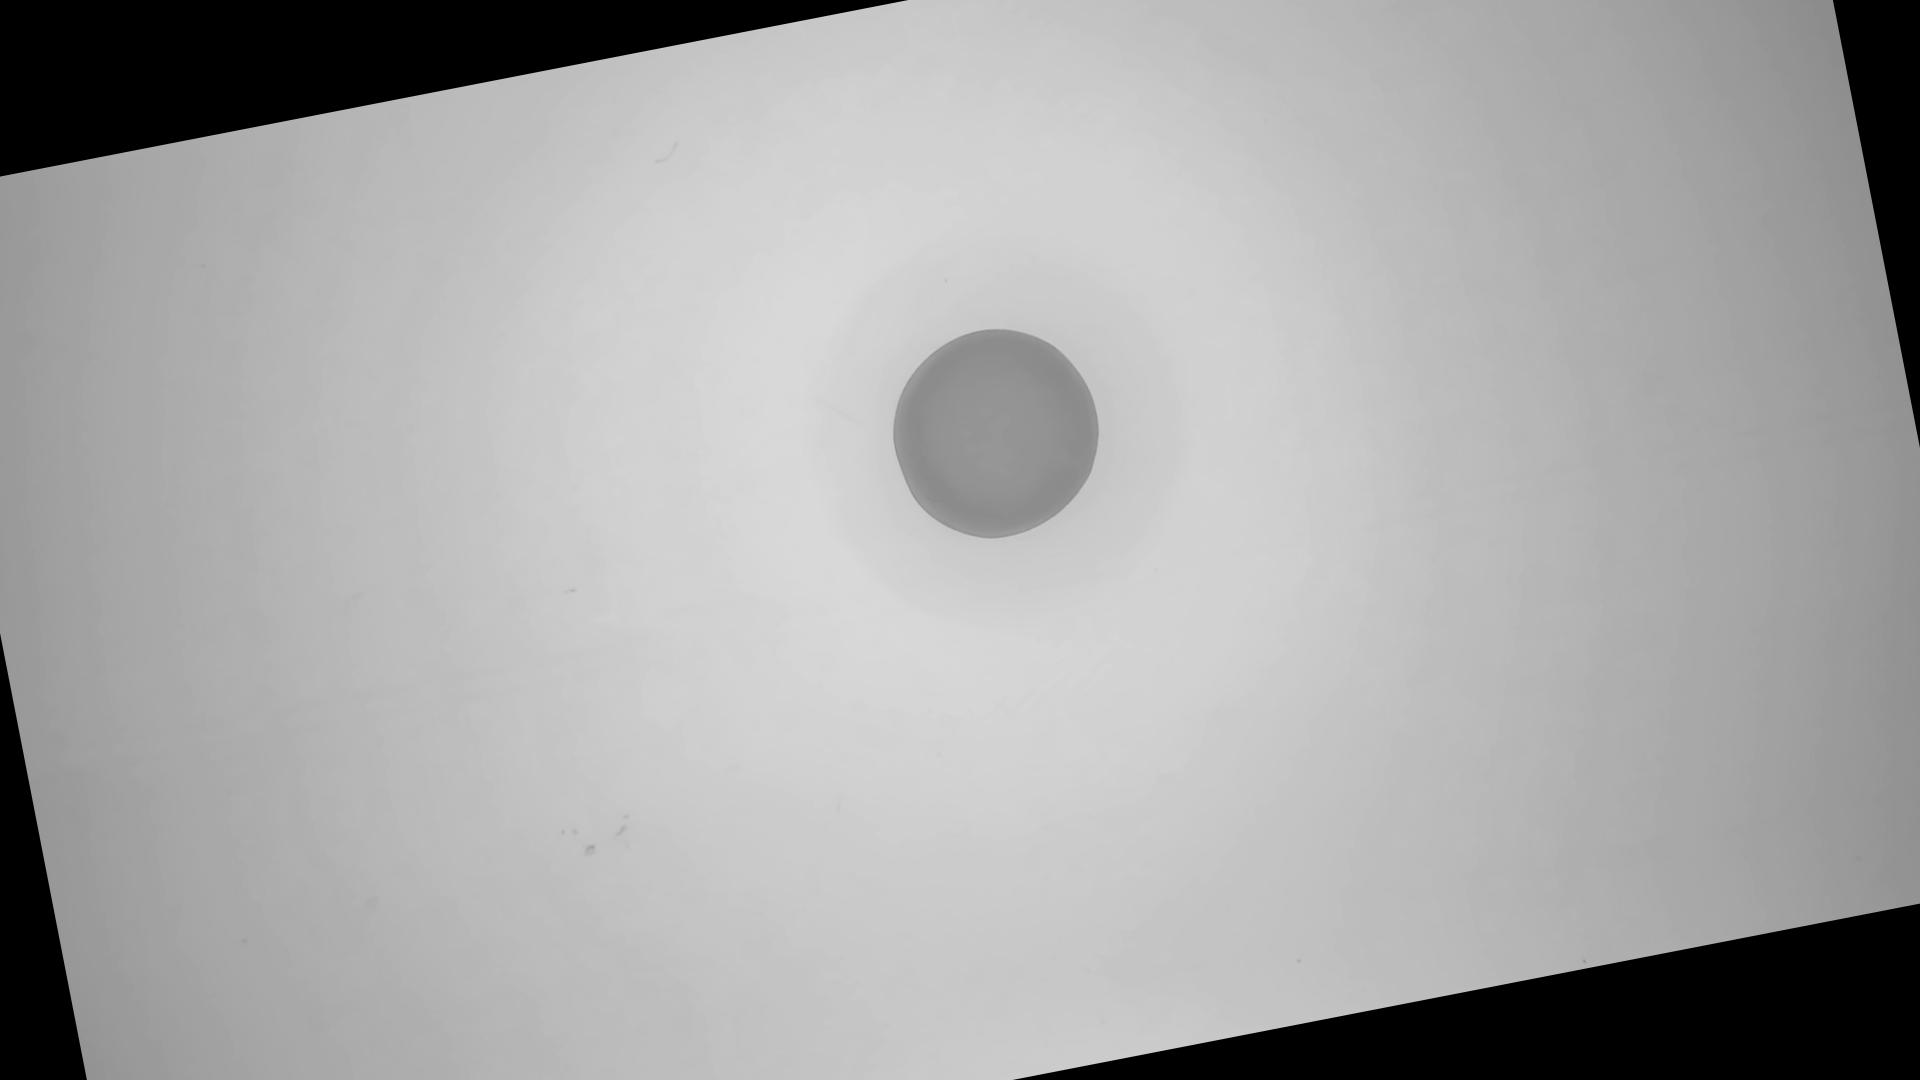normal: (878, 310, 1120, 559)
